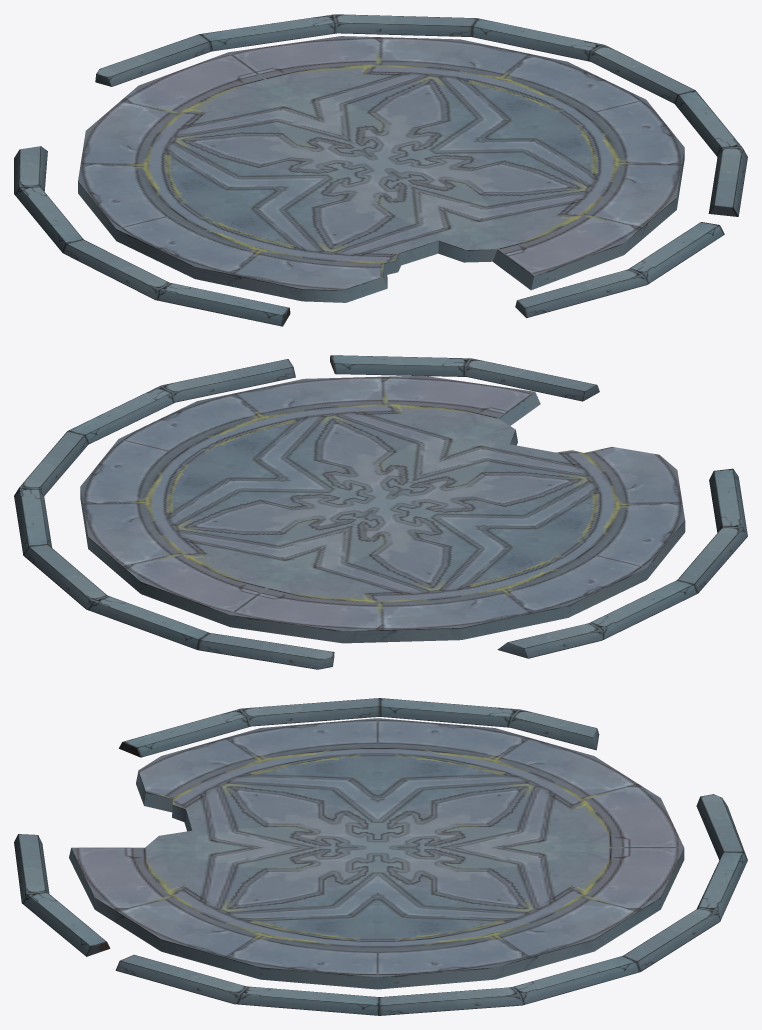
Rendered from 2_ChengZhen_XiaoZuJian_02.FBX.
The picture shows the model from 3 angles, top to bottom: view 1: azimuth 30°, elevation 25°; view 2: azimuth 150°, elevation 25°; view 3: azimuth 270°, elevation 25°; orthographic projection.
Visible parts, largest first — view 1: 2_ChengZhen_XiaoZuJian_02, 2_ChengZhen_XiaoZuJian_02_01, 2_ChengZhen_XiaoZuJian_02_02, 2_ChengZhen_XiaoZuJian_02_03; view 2: 2_ChengZhen_XiaoZuJian_02, 2_ChengZhen_XiaoZuJian_02_01, 2_ChengZhen_XiaoZuJian_02_02, 2_ChengZhen_XiaoZuJian_02_03; view 3: 2_ChengZhen_XiaoZuJian_02, 2_ChengZhen_XiaoZuJian_02_01, 2_ChengZhen_XiaoZuJian_02_02, 2_ChengZhen_XiaoZuJian_02_03.
Part boxes in pixels (box(x1,y1,x2,y2)): 2_ChengZhen_XiaoZuJian_02: box(78, 36, 684, 302); 2_ChengZhen_XiaoZuJian_02_01: box(95, 14, 747, 216); 2_ChengZhen_XiaoZuJian_02_02: box(14, 146, 290, 326); 2_ChengZhen_XiaoZuJian_02_03: box(515, 222, 724, 318); 2_ChengZhen_XiaoZuJian_02: box(80, 375, 685, 643); 2_ChengZhen_XiaoZuJian_02_01: box(14, 359, 334, 669); 2_ChengZhen_XiaoZuJian_02_02: box(497, 468, 747, 658); 2_ChengZhen_XiaoZuJian_02_03: box(330, 355, 599, 401); 2_ChengZhen_XiaoZuJian_02: box(69, 718, 684, 989); 2_ChengZhen_XiaoZuJian_02_01: box(115, 794, 747, 1015); 2_ChengZhen_XiaoZuJian_02_02: box(119, 698, 599, 757); 2_ChengZhen_XiaoZuJian_02_03: box(14, 834, 110, 956).
Bounding box in the file's own units: 931 × 17.13 × 928.
